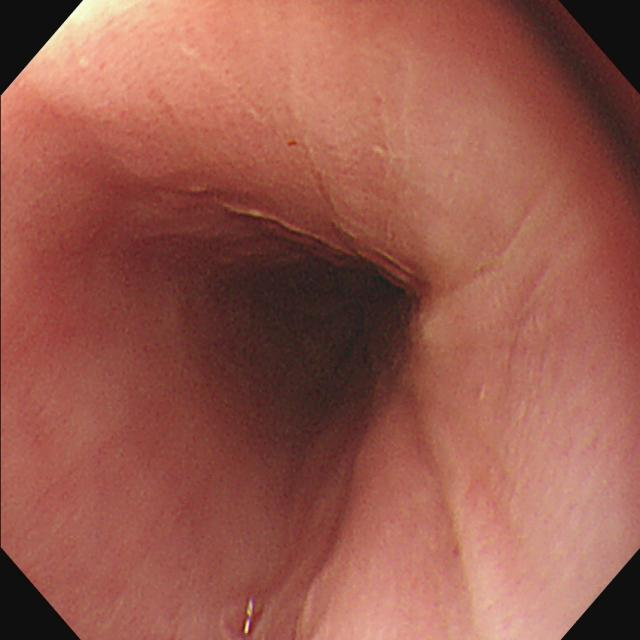E: (261, 244, 401, 390)
U: (241, 598, 257, 639)
